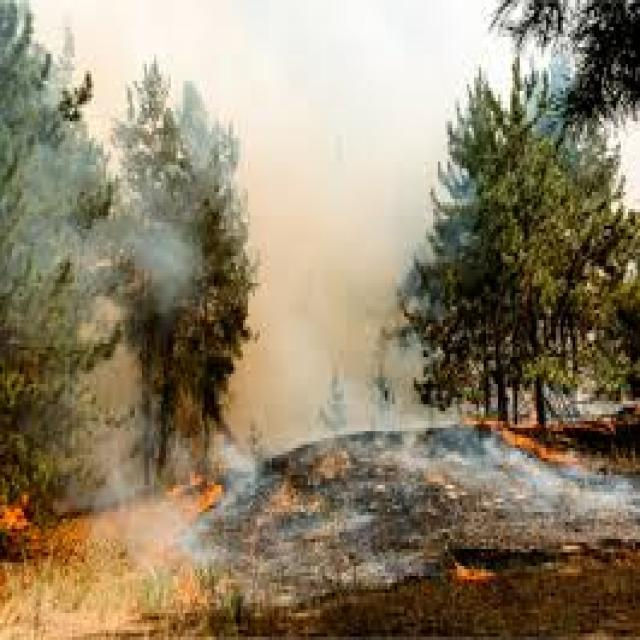Fire: (452, 367, 614, 489), (146, 433, 240, 549), (0, 463, 85, 574), (426, 527, 518, 593)
Smoke: (140, 328, 638, 594), (236, 0, 420, 418)
